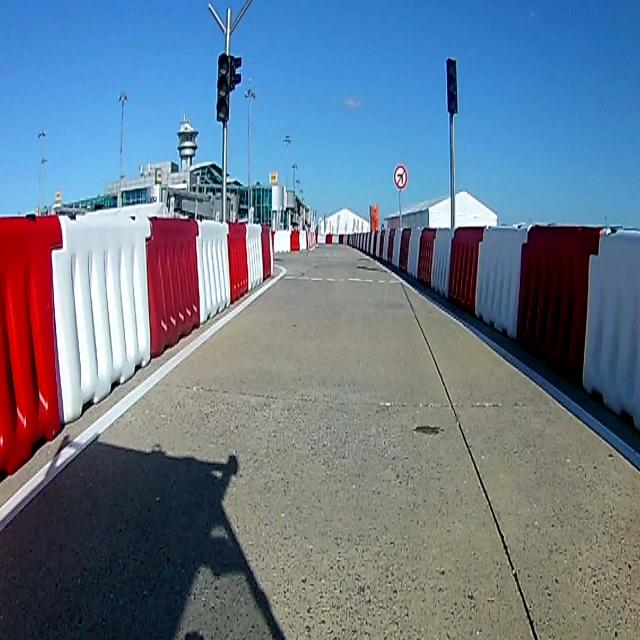soladonulmez: (393, 164, 409, 191)
